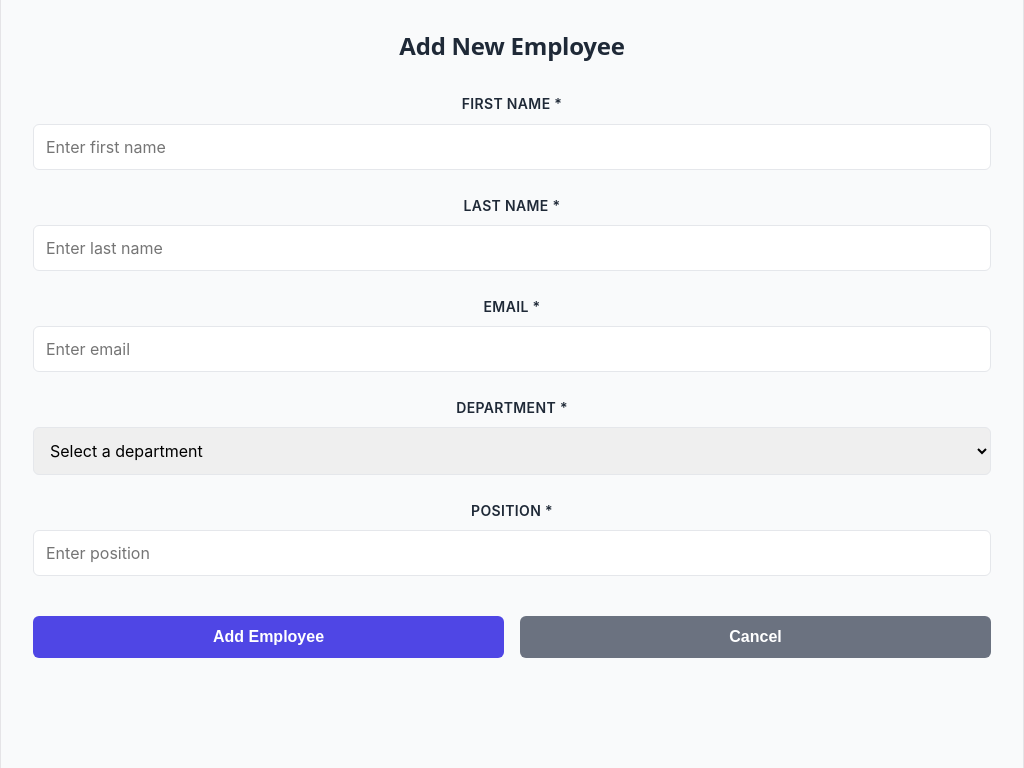
EmployeeForm Component › should validate required fields
Click the button "Add Employee" at {"x": 268, "y": 637}, box [33,616,504,658]
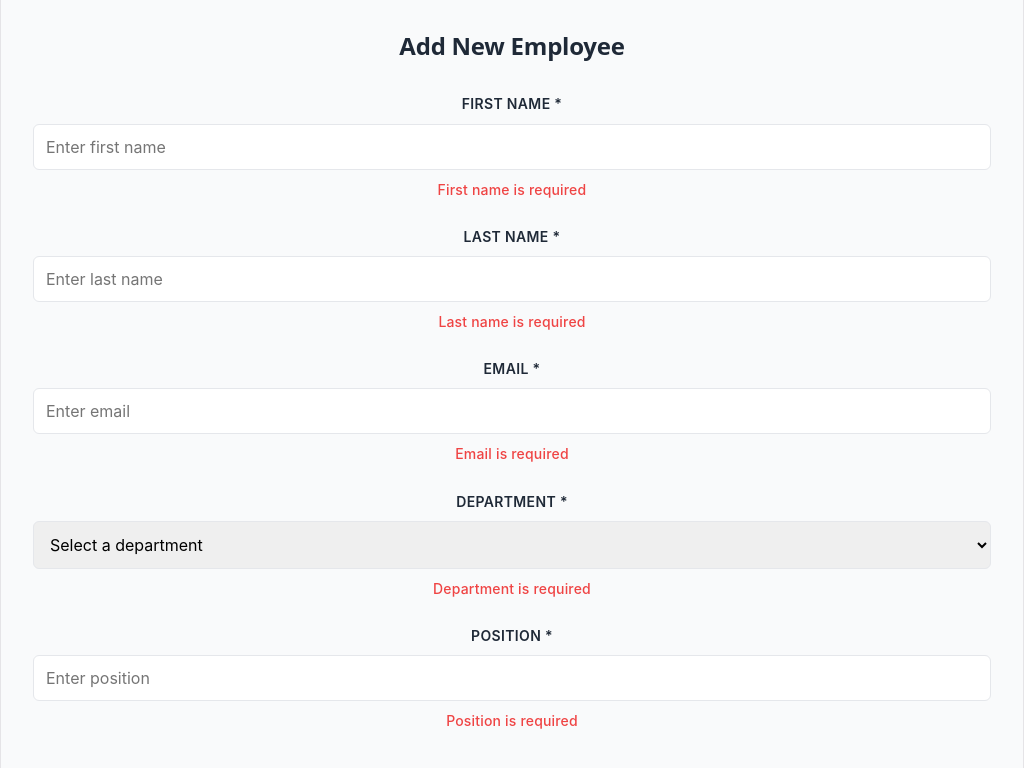
Now the text "First name is required" is shown, box [438,180,586,198]
Now the text "Last name is required" is shown, box [438,313,586,330]
Now the text "Email is required" is shown, box [455,445,569,462]
